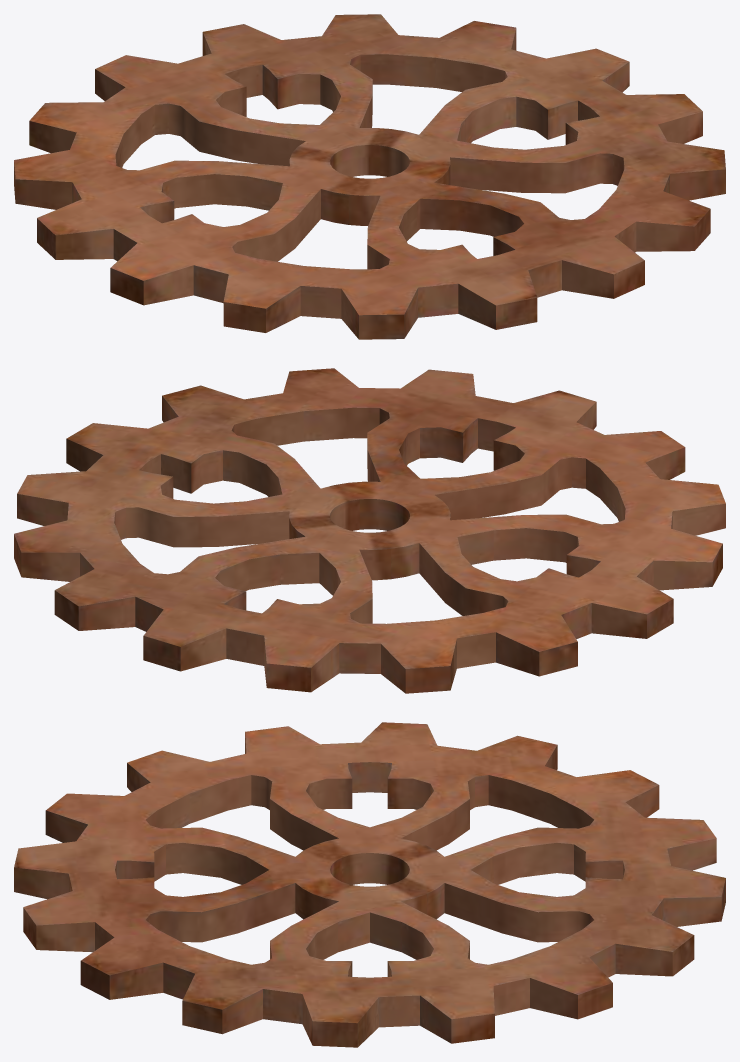
Rendered from steampunk_gear_11.glb.
3 renders of one model, top to bottom at view 1: azimuth 30°, elevation 25°; view 2: azimuth 150°, elevation 25°; view 3: azimuth 270°, elevation 25°, orthographic.
Parts seen in each view (by area): view 1: steampunk_gear_11; view 2: steampunk_gear_11; view 3: steampunk_gear_11.
Boxes of the visible parts, x1=… form: steampunk_gear_11: x1=14, y1=14, x2=725, y2=339; steampunk_gear_11: x1=14, y1=368, x2=725, y2=693; steampunk_gear_11: x1=14, y1=722, x2=725, y2=1047.
Size of what is drawn, in the model's own units: 0.1602 by 0.00751 by 0.1602.
1 material, 1 textured.
